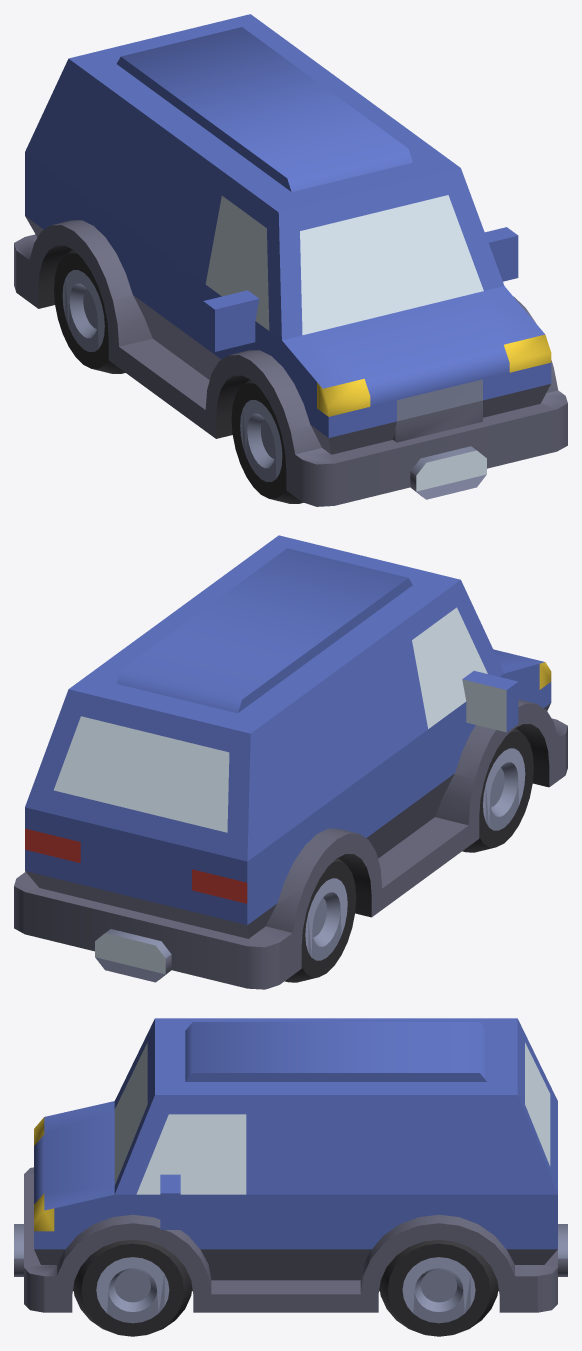
Rendered from van.glb.
The picture shows the model from 3 angles, top to bottom: view 1: azimuth 30°, elevation 25°; view 2: azimuth 150°, elevation 25°; view 3: azimuth 270°, elevation 25°; orthographic projection. The views are drawn at different scales.
Visible parts, largest first — view 1: body, wheel-front-right, wheel-back-right; view 2: body, wheel-back-right, wheel-front-right; view 3: body, wheel-front-left, wheel-back-left.
Part boxes in pixels (x1,y1,x2,y2): body: (14,14,567,506); wheel-front-right: (231,379,303,503); wheel-back-right: (54,249,125,373); body: (14,535,567,989); wheel-back-right: (285,858,356,982); wheel-front-right: (462,728,533,852); body: (14,1018,567,1312); wheel-front-left: (73,1239,192,1336); wheel-back-left: (379,1239,498,1336).
Bounding box in the file's own units: 1.5 × 1.35 × 2.75.
